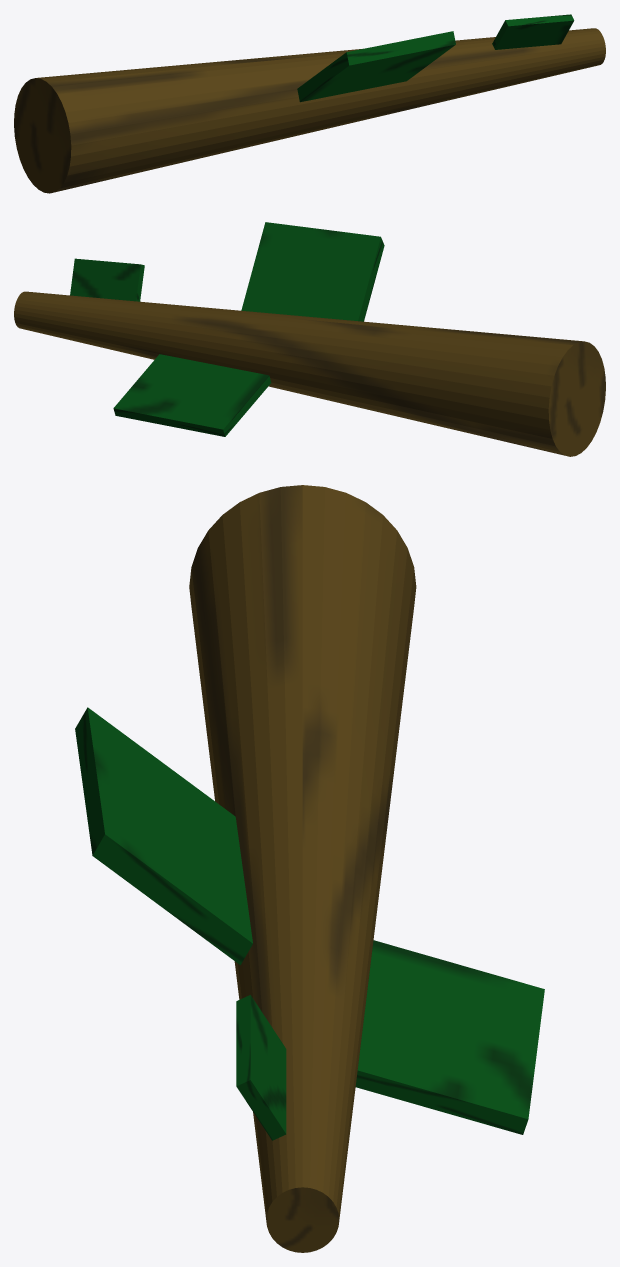
The model's file is ObjectFelledTree.dae.
3 renders of one model, top to bottom at view 1: azimuth 30°, elevation 25°; view 2: azimuth 150°, elevation 25°; view 3: azimuth 270°, elevation 25°, orthographic. The views are drawn at different scales.
Visible parts, largest first — view 1: Cylinder, Cube, Cube.002; view 2: Cylinder, Cube, Cube.001, Cube.002; view 3: Cylinder, Cube.001, Cube, Cube.002.
Part boxes in pixels (box(x1,y1,x2,y2)): Cylinder: box(14, 28, 605, 193); Cube: box(297, 31, 455, 102); Cube.002: box(492, 14, 574, 49); Cylinder: box(14, 291, 605, 456); Cube: box(241, 222, 384, 321); Cube.001: box(113, 354, 271, 436); Cube.002: box(70, 258, 144, 301); Cylinder: box(189, 485, 416, 1252); Cube.001: box(355, 940, 544, 1134); Cube: box(75, 707, 252, 964); Cube.002: box(236, 995, 286, 1140).
Size of the model in its own units: 11.6 by 4.22 by 2.73.
Materials: 1 (1 with a texture image).
